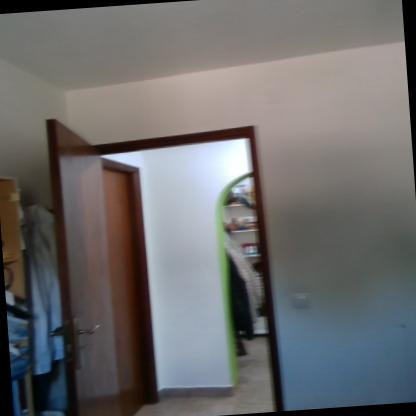open: (76, 104, 295, 415)
